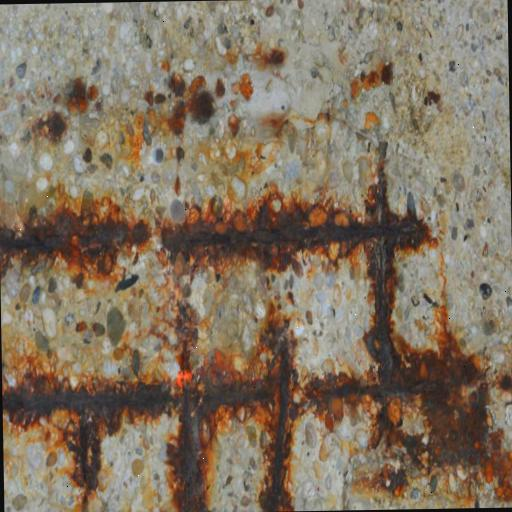spalling: (18, 97, 489, 511)
